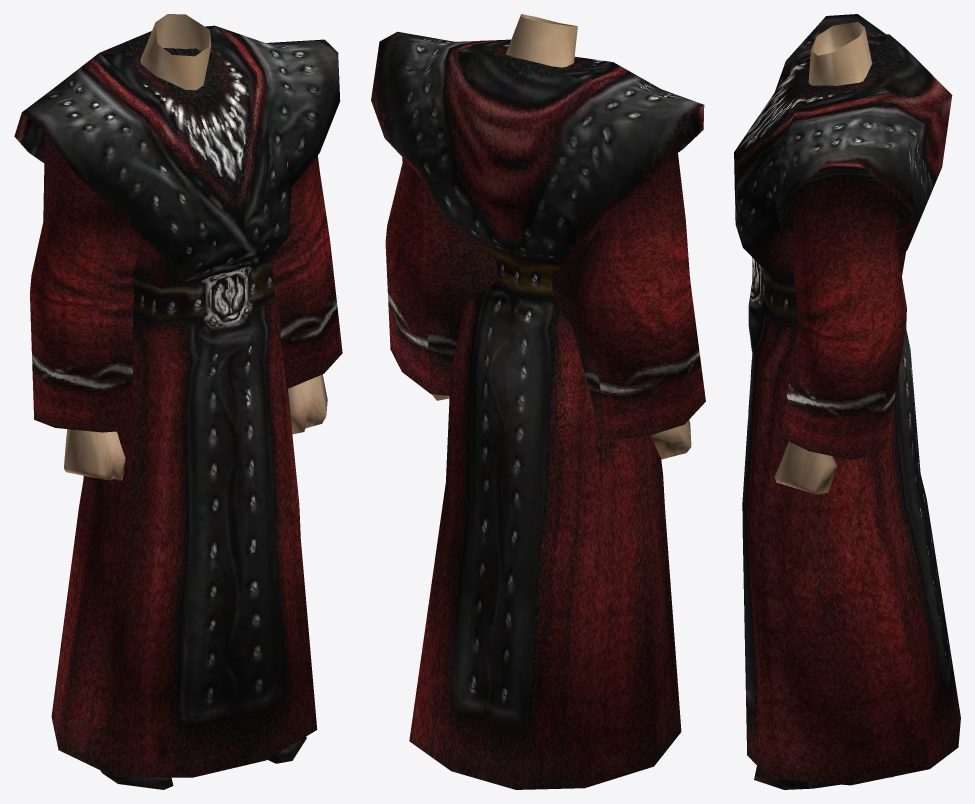
Rendered from HUM_KDFL_ARMOR.glb.
The picture shows the model from 3 angles, left to right: view 1: azimuth 30°, elevation 25°; view 2: azimuth 150°, elevation 25°; view 3: azimuth 270°, elevation 25°; orthographic projection. The views are drawn at different scales.
Parts seen in each view (by area): view 1: HUM_KDFL_ARMOR; view 2: HUM_KDFL_ARMOR; view 3: HUM_KDFL_ARMOR.
Part boxes in pixels (left/top/right/bottom): HUM_KDFL_ARMOR: left=14, top=14, right=342, bottom=789; HUM_KDFL_ARMOR: left=371, top=14, right=705, bottom=789; HUM_KDFL_ARMOR: left=734, top=14, right=960, bottom=789.
Bounding box in the file's own units: 0.7227 × 1.65 × 0.4711.
Materials: 2 (2 with a texture image).
